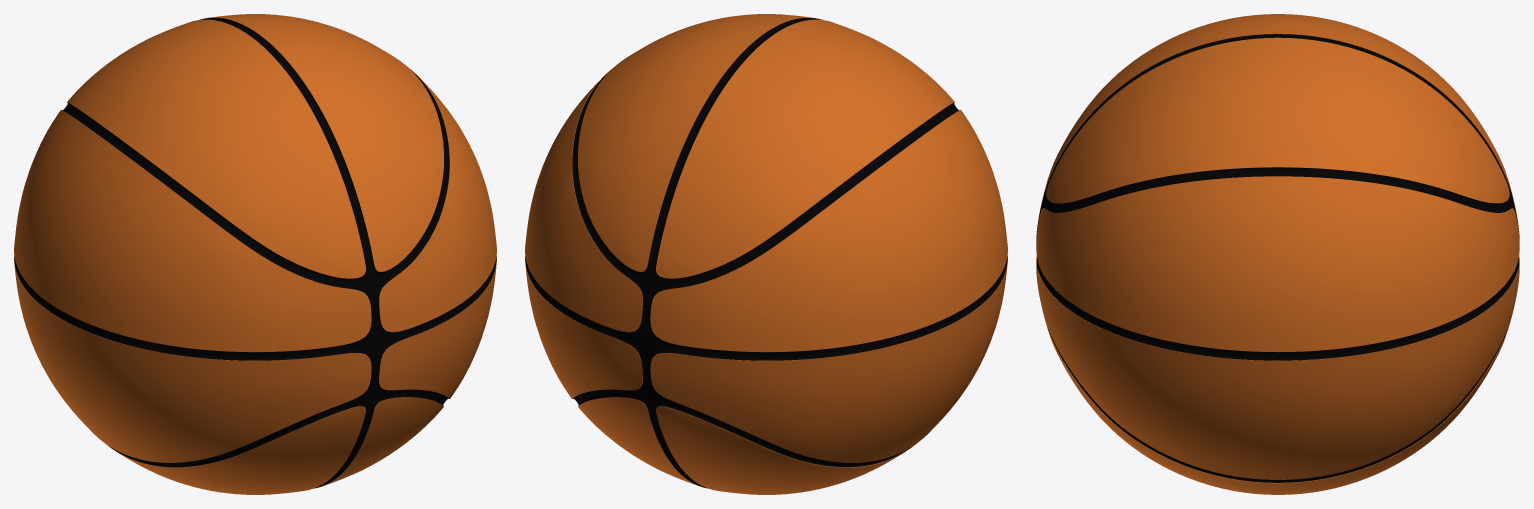
File: basketball_ba.fbx
The picture shows the model from 3 angles, left to right: view 1: azimuth 30°, elevation 25°; view 2: azimuth 150°, elevation 25°; view 3: azimuth 270°, elevation 25°; orthographic projection.
Parts seen in each view (by area): view 1: Cube; view 2: Cube; view 3: Cube.
Part boxes in pixels (x1=…): Cube: x1=14, y1=14, x2=496, y2=494; Cube: x1=525, y1=14, x2=1007, y2=494; Cube: x1=1036, y1=14, x2=1519, y2=494.
Bounding box in the file's own units: 163 × 163 × 163.
